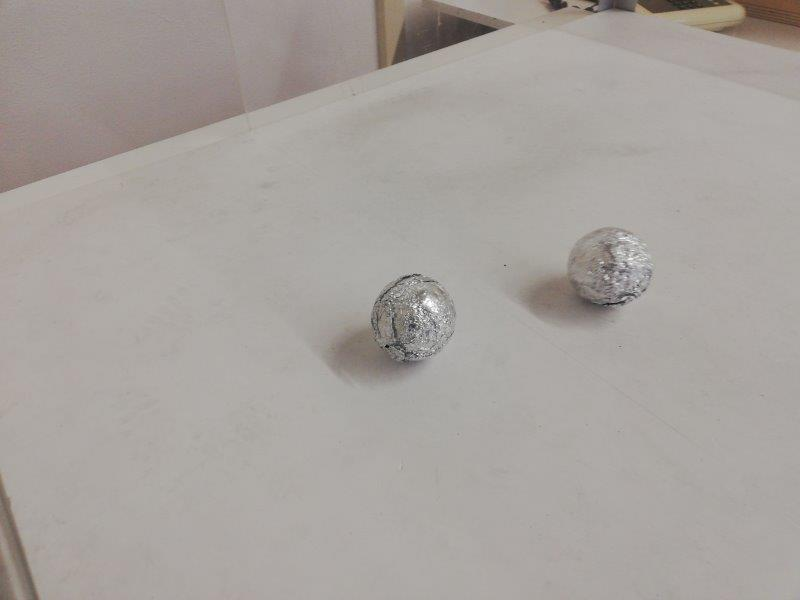bianca: (372, 274, 456, 363), (567, 226, 654, 307)
